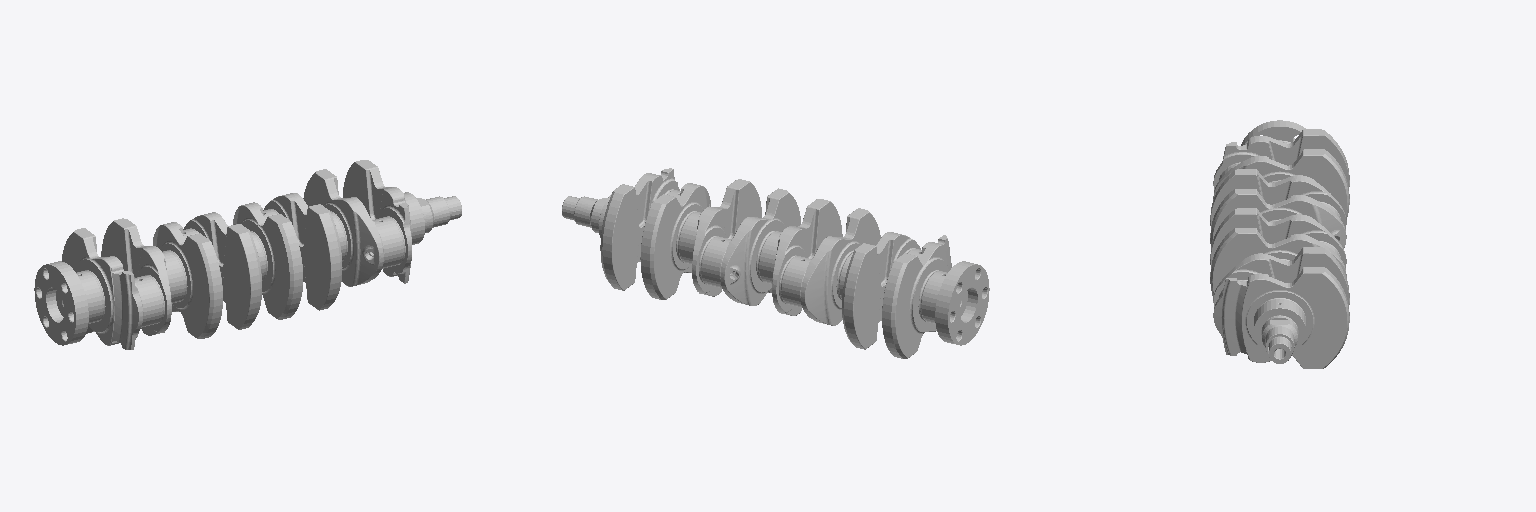
The model's file is Коленчатый вал.obj.
The picture shows the model from 3 angles: view 1: azimuth 30°, elevation 25°; view 2: azimuth 150°, elevation 25°; view 3: azimuth 270°, elevation 25°; orthographic projection.
Visible parts, largest first — view 1: Коленчатый_вал; view 2: Коленчатый_вал; view 3: Коленчатый_вал.
Boxes of the visible parts, x1,y1,x2,y2 form: Коленчатый_вал: [34, 160, 461, 349]; Коленчатый_вал: [562, 168, 989, 358]; Коленчатый_вал: [1210, 120, 1349, 368].
Size of the model in its own units: 446 by 102 by 134.